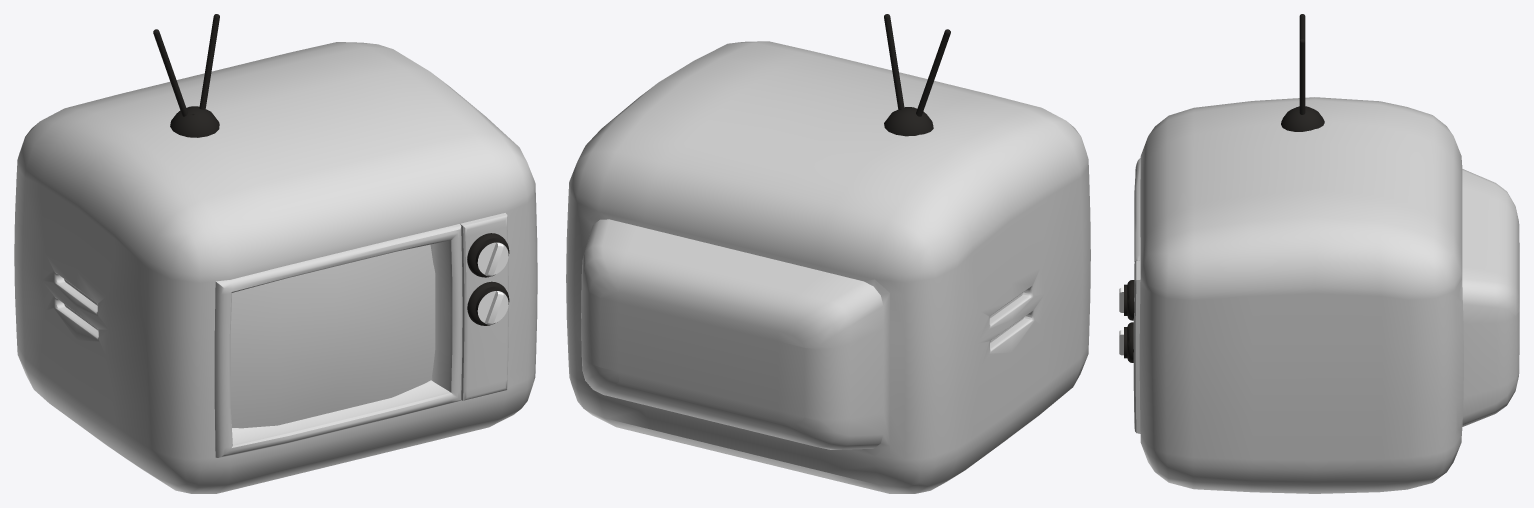
The picture shows the model from 3 angles, left to right: view 1: azimuth 30°, elevation 25°; view 2: azimuth 150°, elevation 25°; view 3: azimuth 270°, elevation 25°; orthographic projection. The views are drawn at different scales.
Parts seen in each view (by area): view 1: Cube.025, screen, Cylinder.009, Cylinder.010, Cylinder.008; view 2: Cube.025, Cylinder.009; view 3: Cube.025, Cylinder.009, Cylinder.010, Cylinder.008.
Boxes of the visible parts, bbox=[...] form: Cube.025: bbox=[14, 42, 537, 493]; screen: bbox=[230, 244, 435, 428]; Cylinder.009: bbox=[153, 14, 219, 137]; Cylinder.010: bbox=[467, 233, 509, 277]; Cylinder.008: bbox=[467, 281, 509, 325]; Cube.025: bbox=[566, 41, 1090, 493]; Cylinder.009: bbox=[884, 14, 950, 136]; Cube.025: bbox=[1133, 97, 1519, 493]; Cylinder.009: bbox=[1281, 14, 1324, 131]; Cylinder.010: bbox=[1119, 280, 1134, 320]; Cylinder.008: bbox=[1119, 322, 1133, 362].
Bounding box in the file's own units: 126 × 131 × 130.
